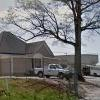Car: (31, 61, 81, 84)
